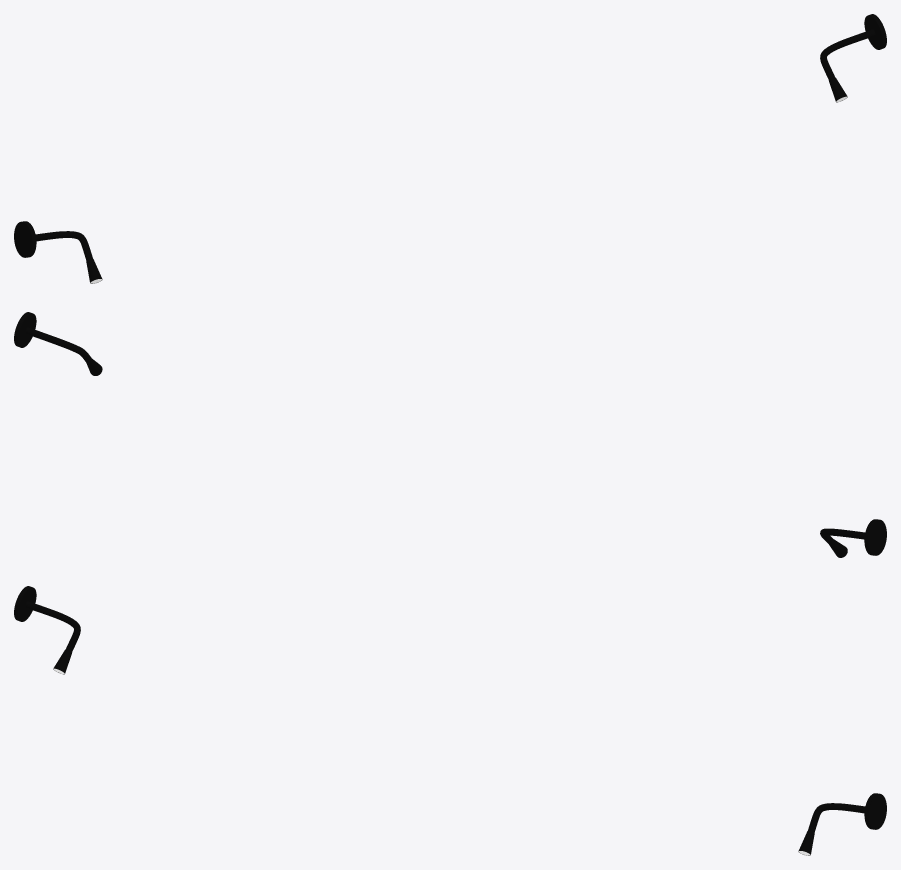
Rendered from reading-light.glb.
3 views of the same model, one above another, from view 1: azimuth 30°, elevation 25°; view 2: azimuth 150°, elevation 25°; view 3: azimuth 330°, elevation 25° (orthographic).
Visible parts, largest first — view 1: Reading light.001; view 2: Reading light.001; view 3: Reading light.001.
Part boxes in pixels (bbox=[...]): Reading light.001: bbox=[14, 14, 886, 283]; Reading light.001: bbox=[14, 312, 886, 557]; Reading light.001: bbox=[14, 586, 886, 855].
Size of the model in its own units: 1.71 by 0.1177 by 0.1039.
1 material, 1 textured.
